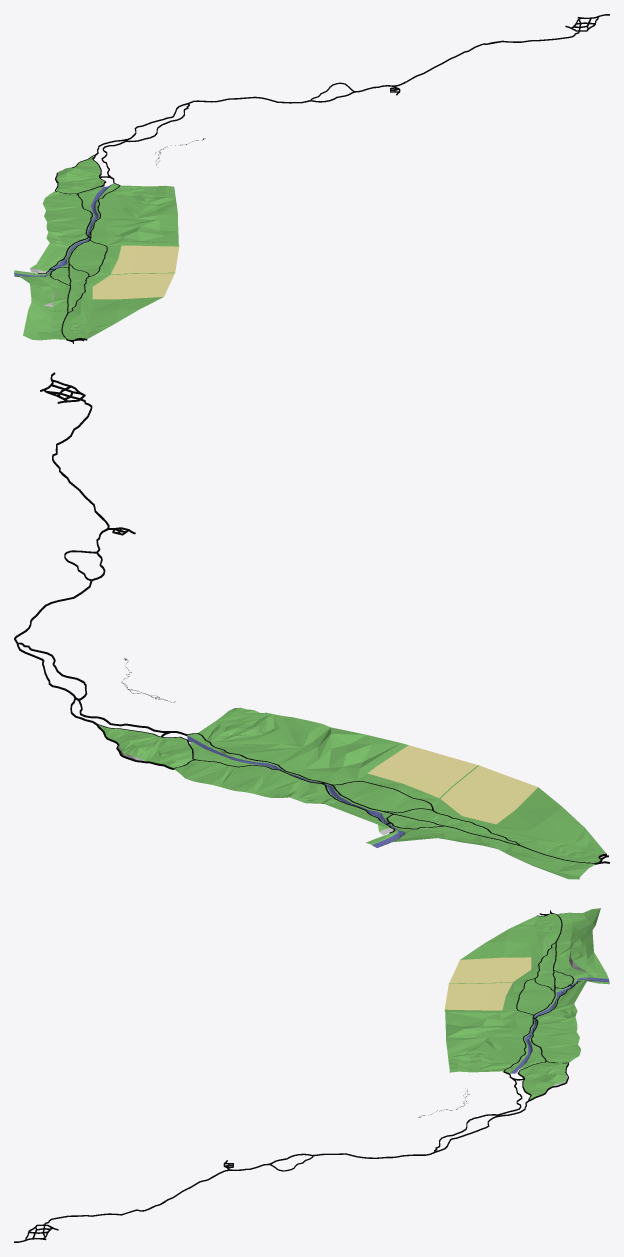
The model's file is map.fbx.
3 renders of one model, top to bottom at view 1: azimuth 90°, elevation 25°; view 2: azimuth 150°, elevation 25°; view 3: azimuth 270°, elevation 25°, orthographic. The views are drawn at different scales.
Visible parts, largest first — view 1: Земля8, Земля5, Дорога, Земля10, Земля9, Земля3, Земля1; view 2: Земля8, Дорога, Земля5, Земля10, Земля9, Земля3, Земля1; view 3: Земля8, Земля5, Дорога, Земля10, Земля9, Земля3, Земля1.
Part boxes in pixels (x1,y1,x2,y2): Земля8: (62,185,179,339); Земля5: (14,183,119,340); Дорога: (38,14,609,343); Земля10: (30,191,91,273); Земля9: (56,156,104,193); Земля3: (69,240,106,276); Земля1: (68,265,88,312); Земля8: (198,707,605,862); Дорога: (14,372,609,864); Земля5: (187,733,594,879); Земля10: (173,760,393,835); Земля9: (99,725,193,767); Земля3: (333,781,432,812); Земля1: (386,809,517,844); Земля8: (444,914,561,1072); Земля5: (505,908,609,1073); Дорога: (14,910,581,1242); Земля10: (532,979,593,1062); Земля9: (519,1061,567,1099); Земля3: (517,979,554,1014); Земля1: (535,943,555,990).
Size of the model in its own units: 819793 by 16653 by 625358.
